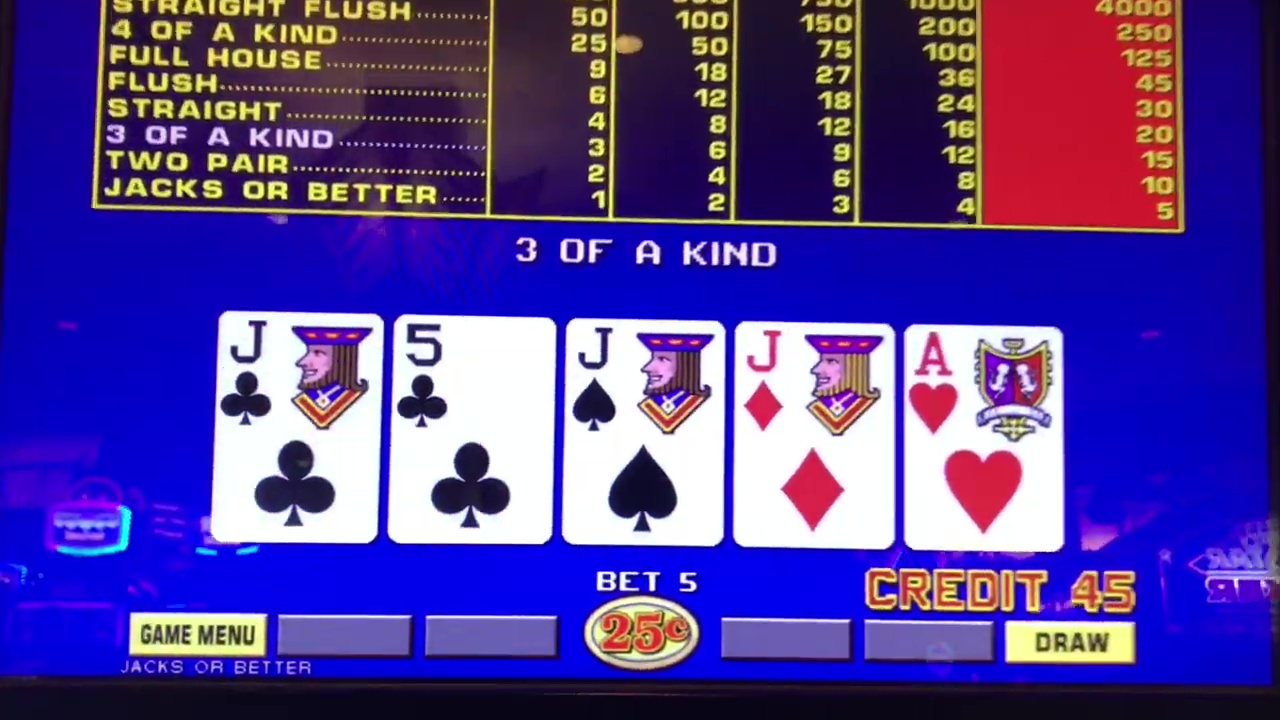C5: (399, 316, 548, 542)
CJ: (220, 315, 377, 547)
DJ: (736, 328, 889, 540)
HA: (908, 328, 1060, 551)
SJ: (569, 323, 718, 546)
